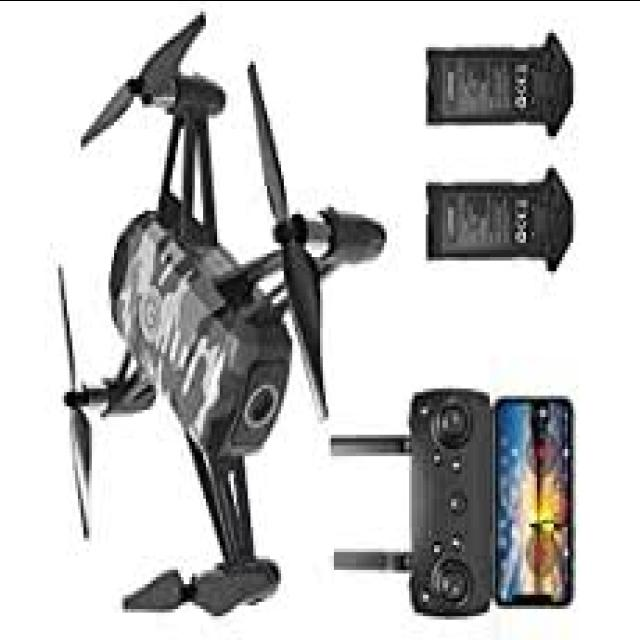drone: (31, 0, 388, 640)
